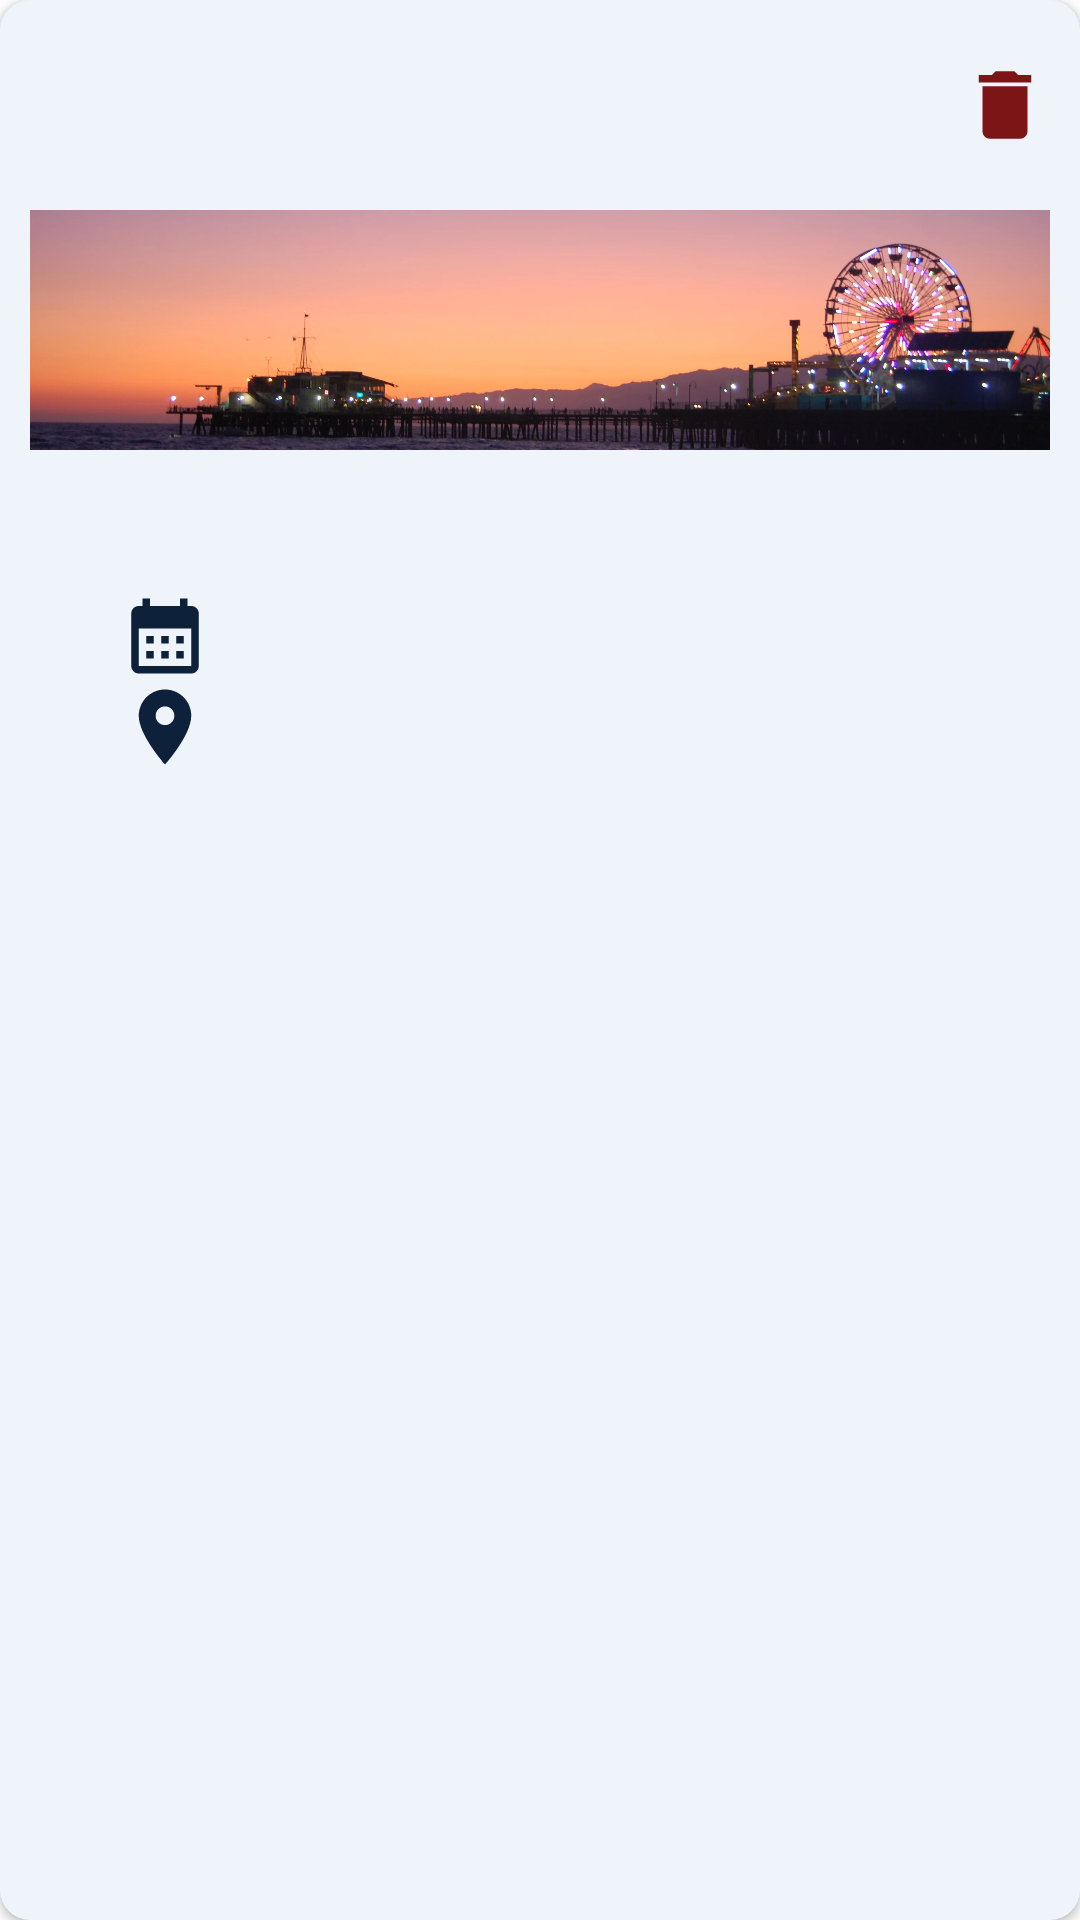

Where to tap for icons on this 1080×1920 app screen, as (x,y):
calendar: (165,636)
delete: (1005,105)
location: (165,726)
